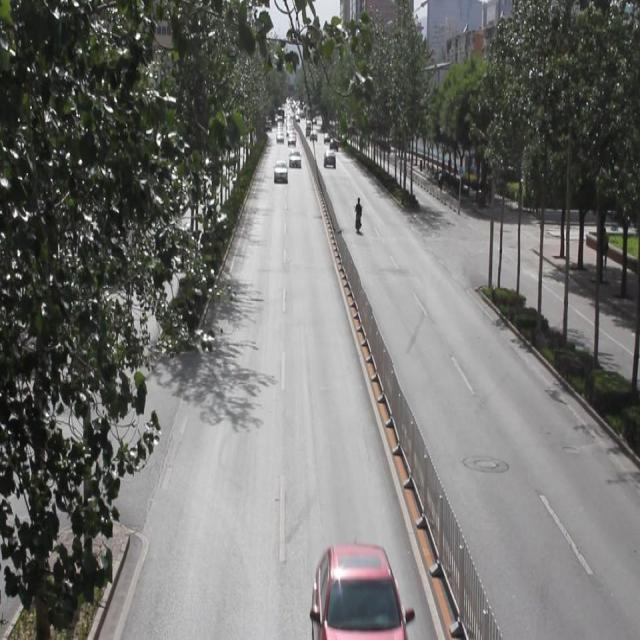car: (308, 543, 404, 640), (272, 159, 287, 182), (288, 150, 302, 168), (323, 148, 335, 168)
